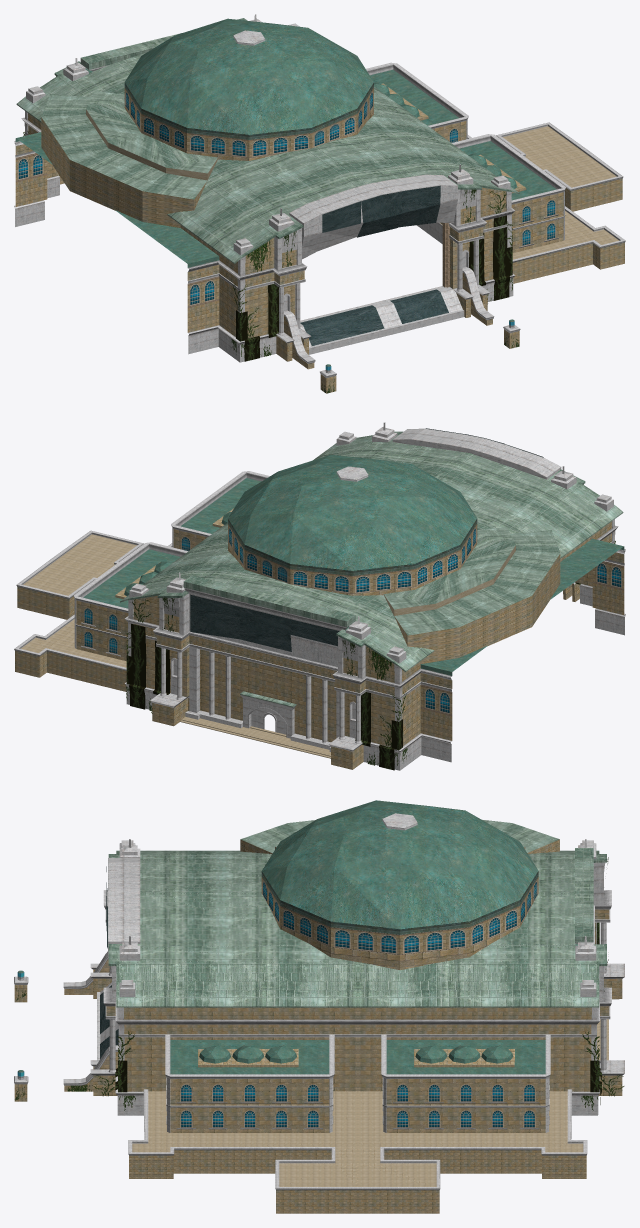
File: thm_nboo_thed_hangar_r0_mesh_l1.fbx
3 views of the same model, one above another, from view 1: azimuth 30°, elevation 25°; view 2: azimuth 150°, elevation 25°; view 3: azimuth 270°, elevation 25° (orthographic). The views are drawn at different scales.
Visible parts, largest first — view 1: mesh_node; view 2: mesh_node; view 3: mesh_node.
Boxes of the visible parts, <box> form: mesh_node: <box>14,14,625,393</box>; mesh_node: <box>14,422,625,770</box>; mesh_node: <box>14,800,624,1213</box>.
Bounding box in the file's own units: 201 × 79.34 × 193.
